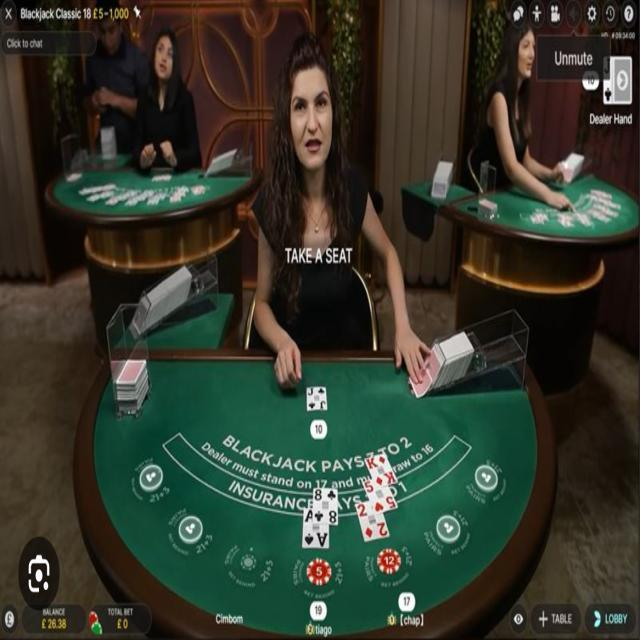Card-2: (355, 501, 389, 540)
Card-5: (363, 480, 398, 513)
Card-8: (313, 487, 337, 525)
Card-A: (302, 507, 329, 548)
Card-J: (307, 387, 327, 410)
Card-K: (364, 454, 398, 488)
